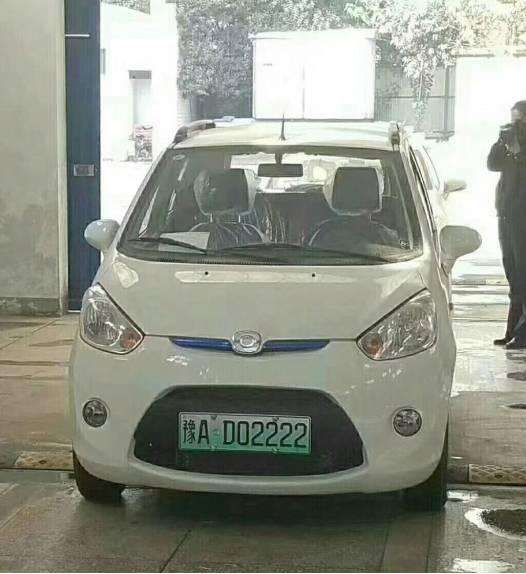plate: (171, 402, 318, 467)
